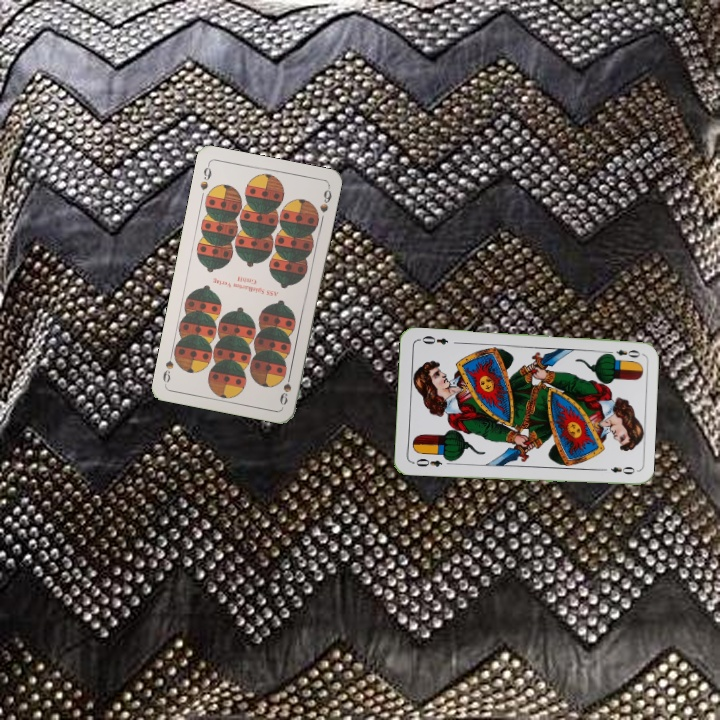EO: (603, 345, 643, 360), (409, 455, 445, 469)
S9: (276, 368, 294, 408), (196, 160, 214, 193)
